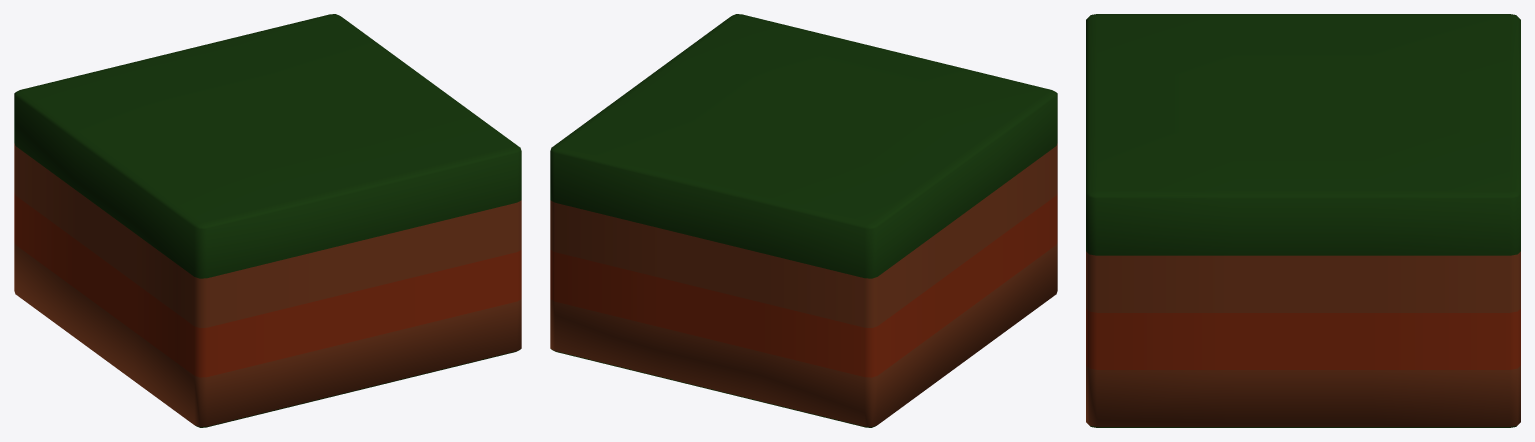
File: Platform.obj
3 renders of one model, left to right at view 1: azimuth 30°, elevation 25°; view 2: azimuth 150°, elevation 25°; view 3: azimuth 270°, elevation 25°, orthographic. The views are drawn at different scales.
Parts seen in each view (by area): view 1: Small_Grass_Platform2; view 2: Small_Grass_Platform2; view 3: Small_Grass_Platform2.
Part boxes in pixels (box(x1,y1,x2,y2)): Small_Grass_Platform2: box(14, 14, 521, 427); Small_Grass_Platform2: box(550, 14, 1057, 427); Small_Grass_Platform2: box(1086, 14, 1520, 427).
Bounding box in the file's own units: 2 × 1.19 × 2.
